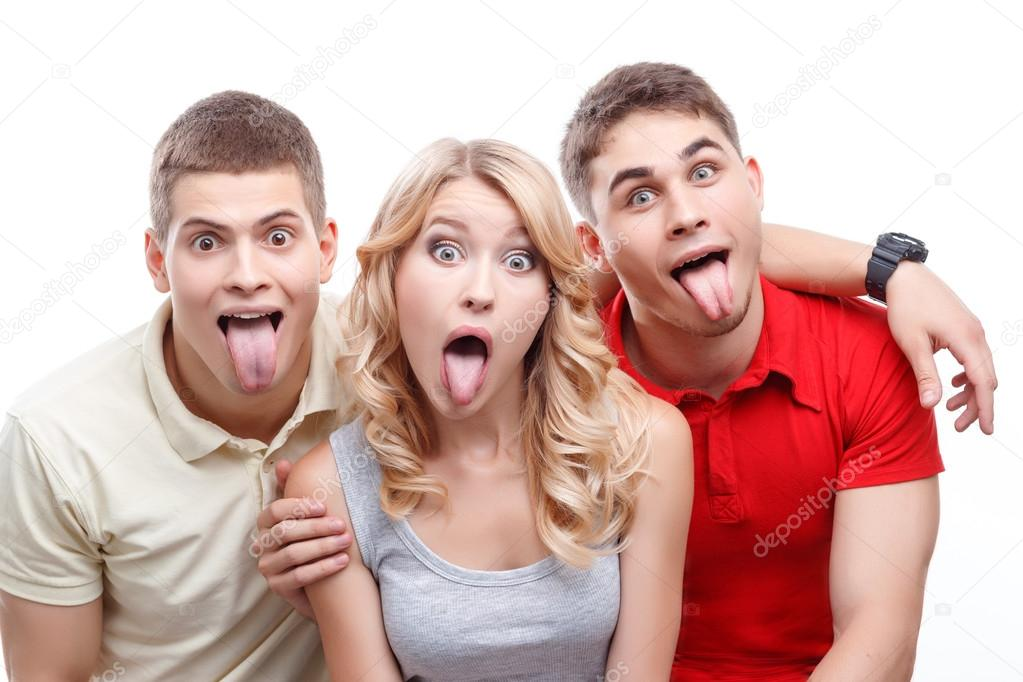bare: (598, 210, 777, 337), (391, 283, 543, 425), (160, 261, 326, 390)
